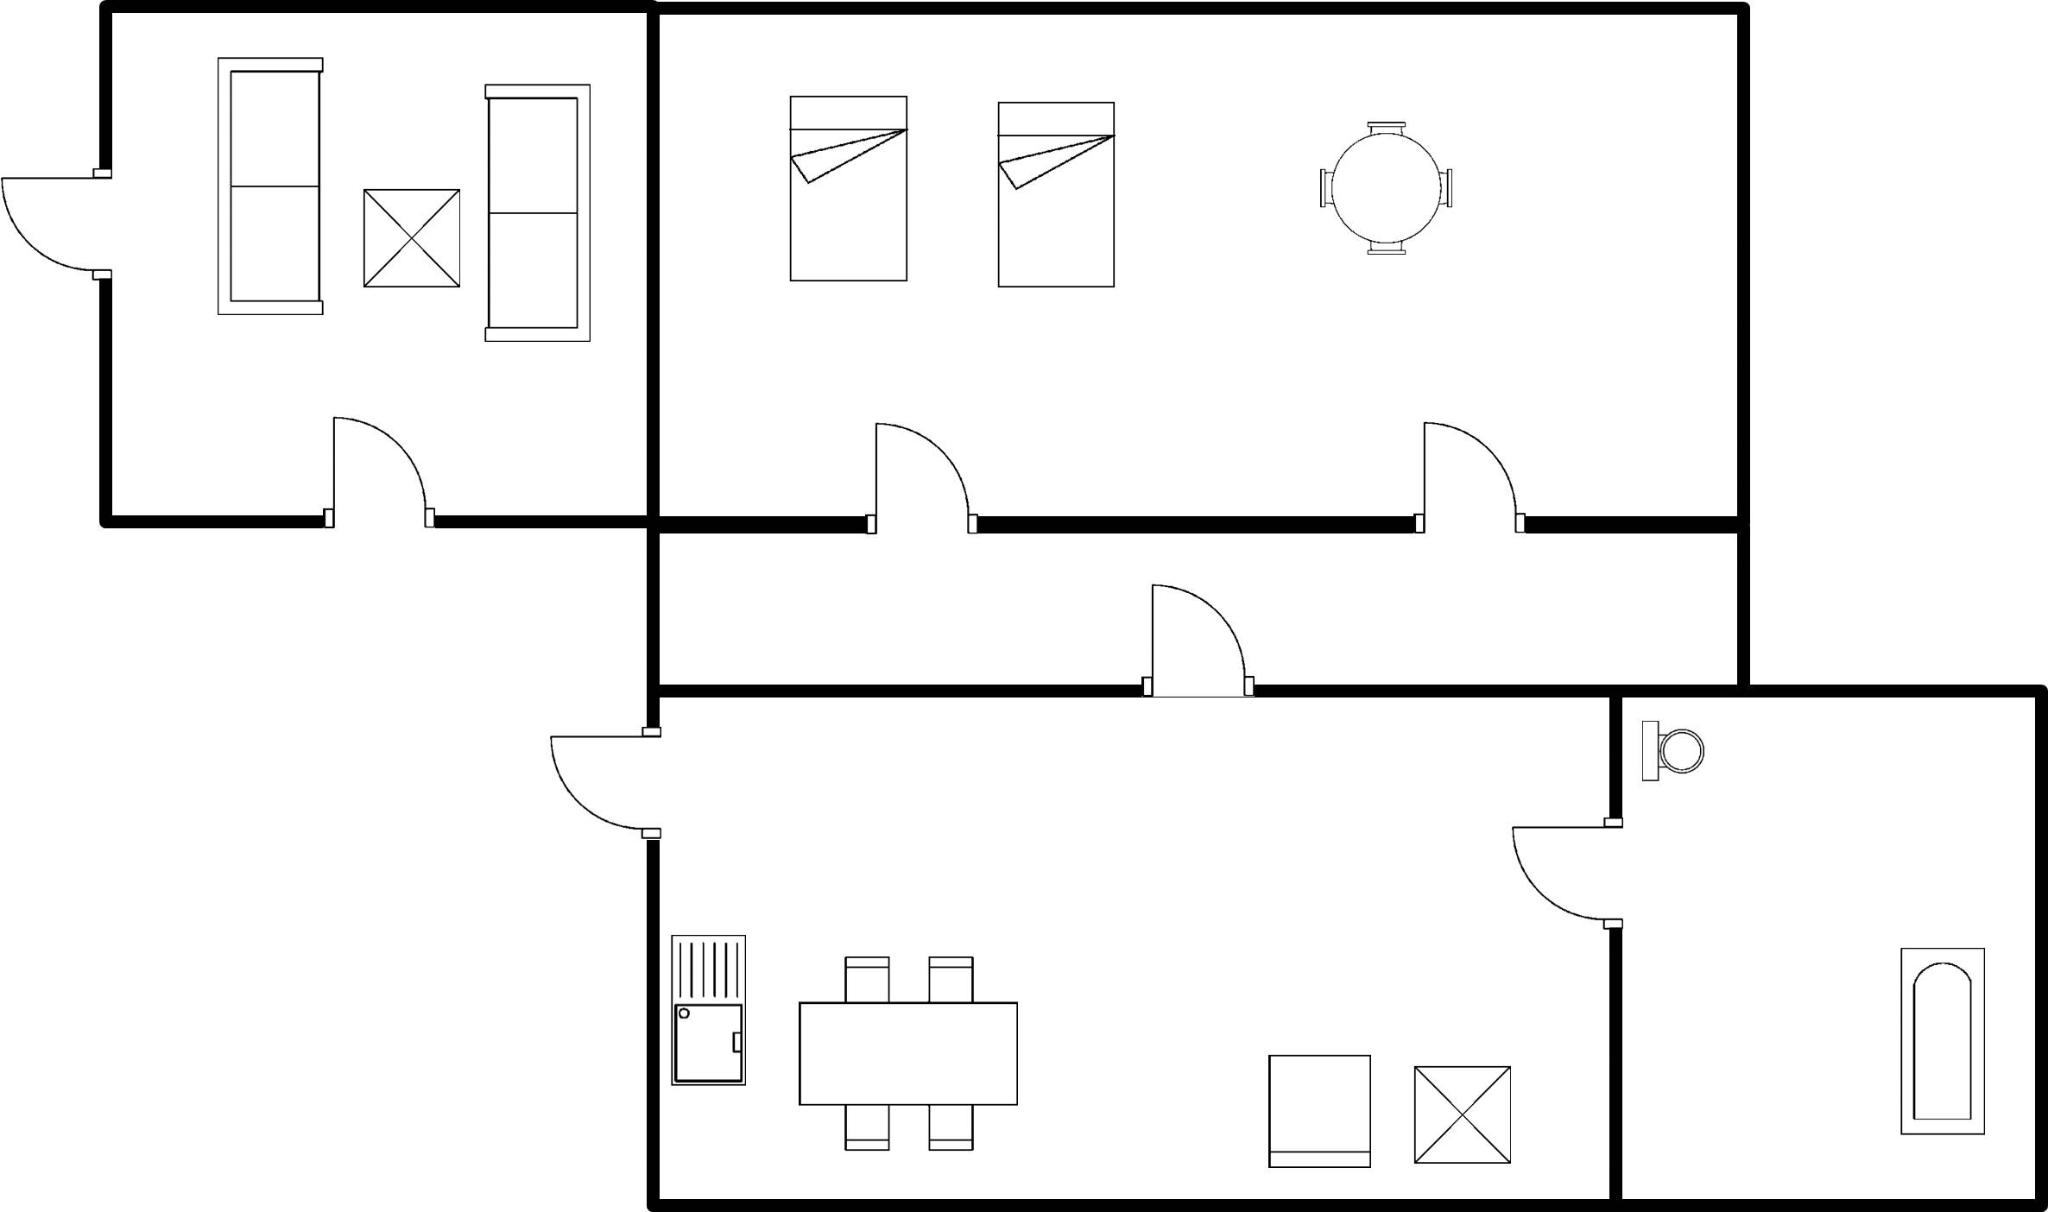bed: (773, 84, 922, 290), (987, 89, 1126, 300)
dining_table: (783, 939, 1024, 1161)
round_table: (1305, 111, 1465, 264)
sink: (663, 923, 757, 1094)
sofa: (472, 68, 603, 358), (206, 48, 332, 326)
toilet: (1631, 707, 1713, 792)
tub: (1888, 939, 1996, 1147)
